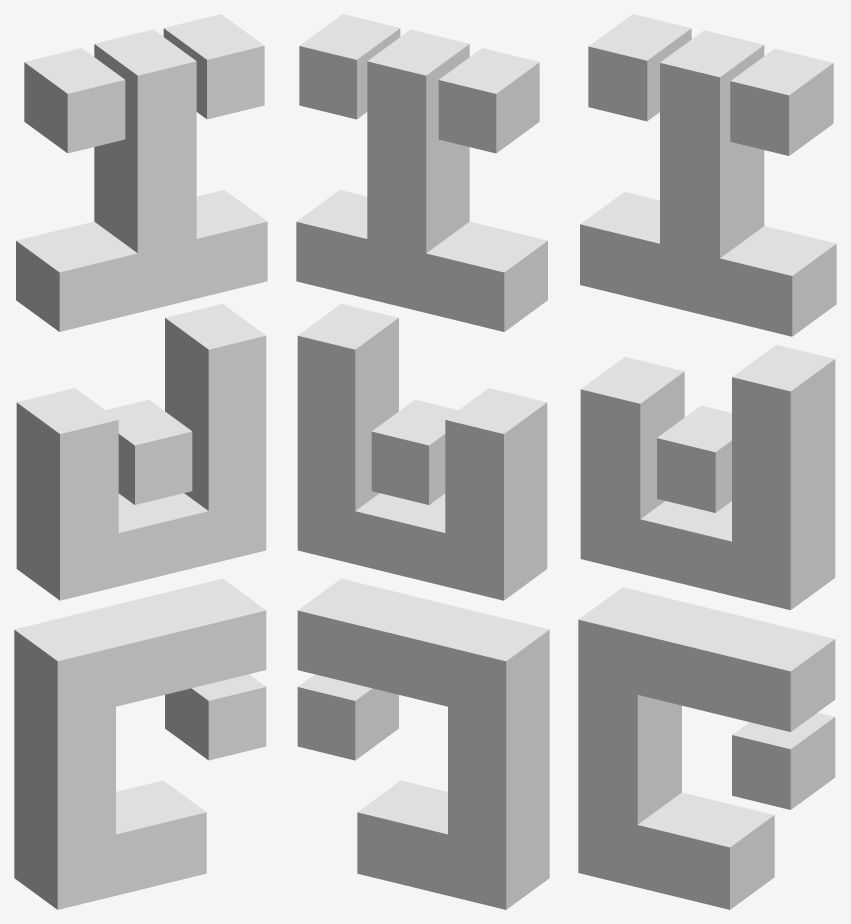
File: Hologram Words.FBX
3 views of the same model, side by side, from view 1: azimuth 30°, elevation 25°; view 2: azimuth 150°, elevation 25°; view 3: azimuth 330°, elevation 25° (orthographic).
Visible parts, largest first — view 1: Hologram Words; view 2: Hologram Words; view 3: Hologram Words.
Part boxes in pixels (left/top/right/bottom): Hologram Words: left=14, top=14, right=267, bottom=909; Hologram Words: left=296, top=14, right=549, bottom=909; Hologram Words: left=578, top=14, right=836, bottom=909.
Bounding box in the file's own units: 95.47 × 354 × 34.3.
